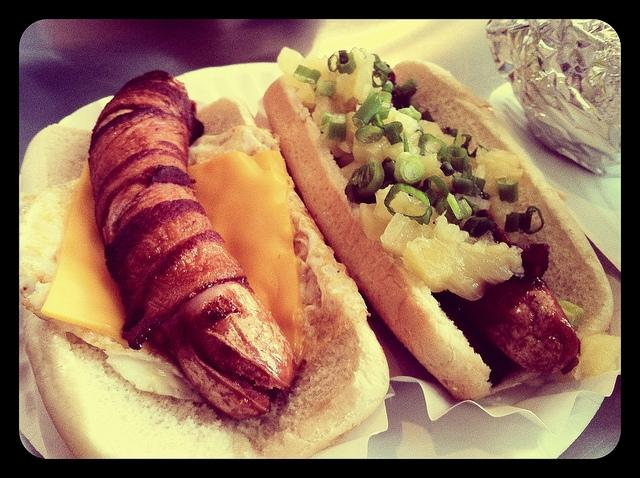green onion: (384, 183, 433, 224), (344, 156, 384, 204), (352, 91, 384, 128), (394, 152, 426, 186), (318, 112, 348, 142), (441, 146, 471, 172), (418, 133, 447, 159), (447, 194, 472, 220), (354, 124, 384, 144), (496, 178, 519, 202), (504, 212, 531, 232), (461, 170, 486, 191), (383, 122, 404, 146), (294, 65, 320, 84), (336, 53, 356, 74), (418, 186, 438, 206), (316, 80, 336, 96), (375, 62, 393, 75)
